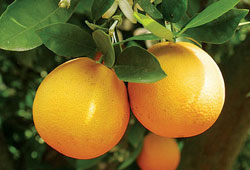portakal: (24, 40, 126, 161), (128, 29, 237, 140)
